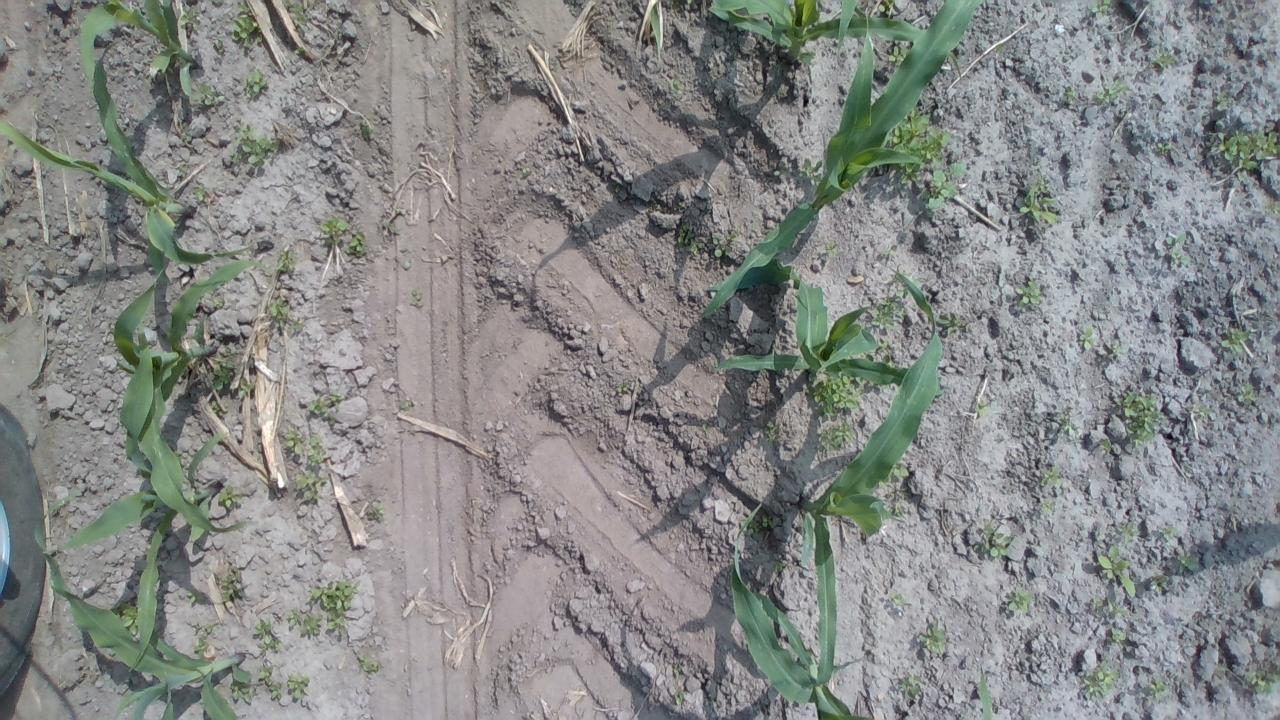Maize: (691, 0, 992, 328), (789, 259, 951, 696), (44, 392, 240, 682), (1, 2, 217, 265), (718, 543, 999, 720), (30, 511, 251, 720), (110, 253, 268, 532), (695, 248, 951, 406), (707, 4, 941, 68), (99, 3, 221, 105)
Weeds: (876, 110, 949, 178), (1213, 124, 1280, 173), (221, 122, 282, 172), (1077, 652, 1129, 708), (806, 372, 865, 418), (310, 578, 362, 630), (1120, 389, 1164, 448), (1096, 542, 1140, 600), (1020, 177, 1064, 230), (766, 150, 821, 188), (868, 291, 914, 334), (924, 160, 966, 207), (734, 504, 776, 545), (972, 526, 1015, 564), (816, 417, 856, 456), (230, 14, 268, 54), (268, 298, 304, 338), (1243, 662, 1280, 700), (286, 608, 328, 641), (288, 472, 329, 505), (281, 426, 313, 468), (216, 567, 248, 608), (894, 672, 930, 708), (1158, 231, 1190, 270), (1218, 324, 1250, 363), (916, 624, 950, 660), (207, 356, 244, 389), (250, 618, 282, 656), (308, 393, 347, 424), (1014, 278, 1046, 312), (270, 245, 301, 280), (240, 70, 273, 102), (998, 584, 1031, 616), (348, 646, 380, 678), (312, 214, 348, 242), (1050, 406, 1081, 438), (260, 660, 282, 704), (190, 620, 216, 657), (702, 227, 732, 258), (672, 220, 699, 254), (770, 553, 801, 582), (1097, 80, 1131, 106), (230, 676, 260, 705), (1150, 672, 1178, 703), (761, 418, 788, 450), (218, 482, 246, 512), (346, 232, 374, 262), (1098, 334, 1124, 366), (1172, 550, 1204, 576), (936, 310, 964, 339), (1038, 464, 1066, 493), (286, 672, 312, 703), (288, 0, 314, 31), (884, 490, 910, 520), (886, 585, 912, 614), (1034, 496, 1067, 518), (1097, 600, 1133, 620), (1088, 0, 1120, 22), (1184, 400, 1216, 422), (970, 399, 996, 426), (1095, 434, 1121, 461), (1230, 382, 1258, 407), (1116, 512, 1140, 541), (1157, 518, 1183, 544), (1142, 568, 1166, 596), (355, 115, 378, 144), (363, 496, 386, 523), (885, 39, 908, 66), (1156, 137, 1179, 164), (310, 439, 330, 470), (119, 599, 140, 628), (1209, 88, 1232, 114), (1058, 82, 1084, 104), (820, 238, 846, 260), (196, 86, 226, 105), (1152, 49, 1178, 70), (185, 584, 205, 611), (1074, 326, 1094, 353), (1106, 623, 1128, 644), (193, 185, 211, 208), (409, 285, 426, 309), (239, 382, 261, 400), (398, 396, 417, 415), (174, 124, 194, 142), (892, 463, 914, 478), (668, 76, 686, 94), (618, 379, 634, 397), (172, 165, 189, 180)
